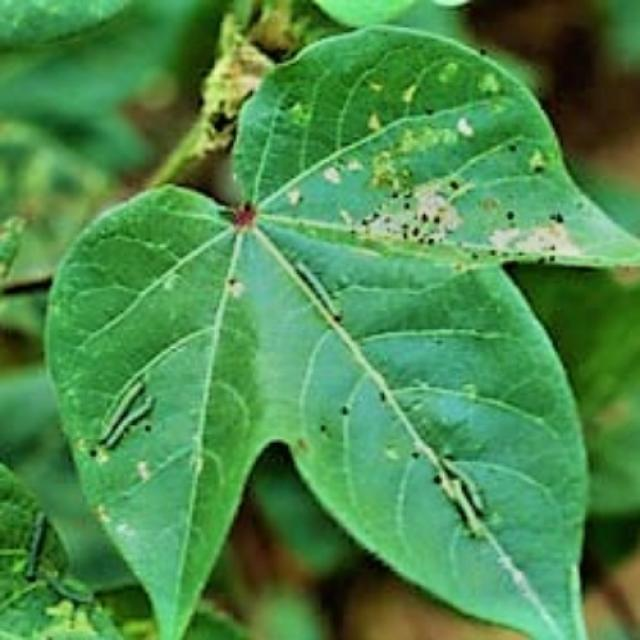armyworm: (96, 381, 166, 454), (433, 452, 499, 516)
